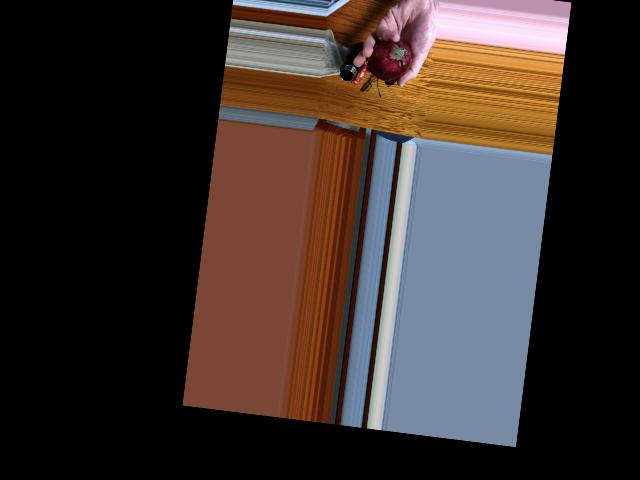onion: (366, 35, 415, 79)
